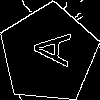A: (23, 28, 71, 67)
